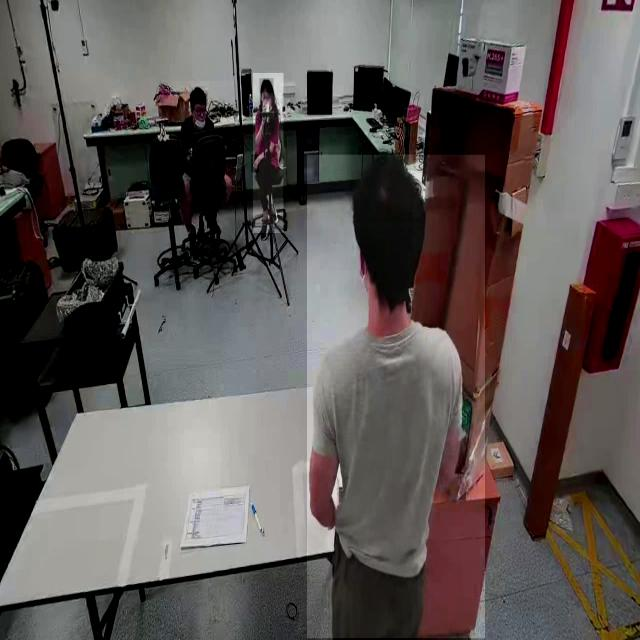face_mask: (261, 95, 275, 119)
hand_noglove: (260, 100, 268, 120), (251, 155, 259, 173)
head_nohelmet: (352, 155, 428, 223), (189, 86, 207, 102), (260, 78, 274, 94)
person: (307, 155, 485, 639), (172, 81, 235, 250), (253, 73, 284, 234)
shoes: (258, 215, 270, 244), (267, 202, 280, 226)
